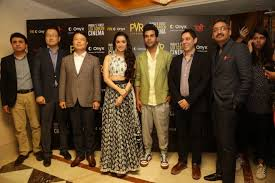Bad: (170, 18, 248, 182), (135, 24, 207, 179), (209, 19, 275, 183), (103, 24, 171, 176), (67, 31, 137, 177), (34, 25, 100, 168), (1, 25, 63, 167)
